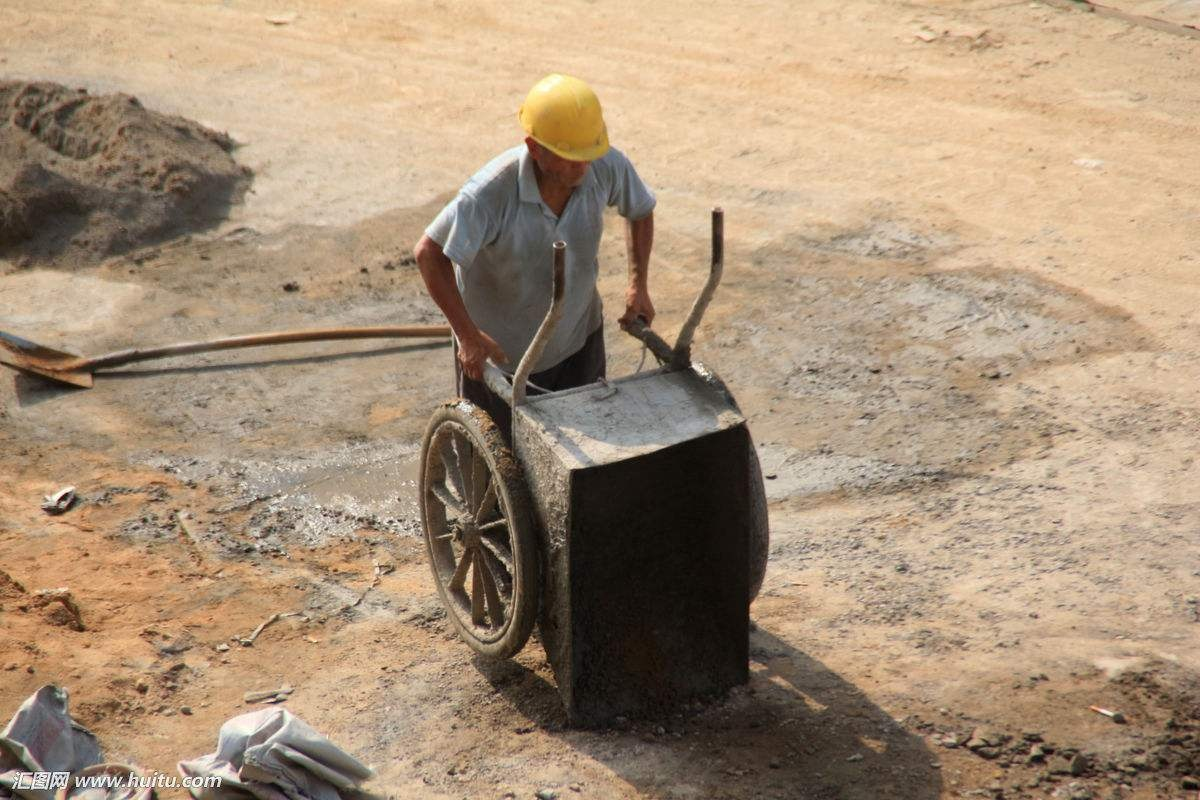yellow: (513, 68, 612, 188)
